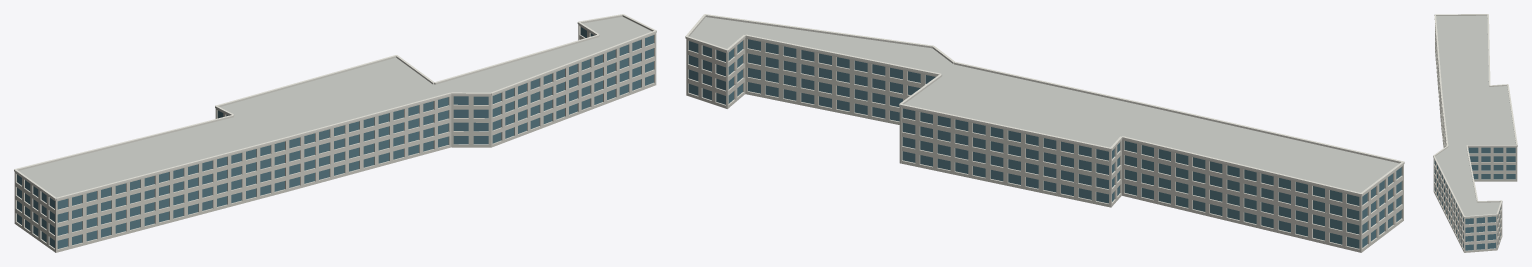
The model's file is sb_1556514399.far.glb.
3 views of the same model, side by side, from view 1: azimuth 30°, elevation 25°; view 2: azimuth 150°, elevation 25°; view 3: azimuth 270°, elevation 25° (orthographic). The views are drawn at different scales.
Visible parts, largest first — view 1: wall, roof, glass, trim; view 2: wall, roof, glass, trim; view 3: roof, wall, glass, trim.
Boxes of the visible parts, x1,y1,x2,y2 form: wall: (14,24,656,252); roof: (19,16,651,197); glass: (17,27,653,248); trim: (14,14,656,200); wall: (686,37,1403,252); roof: (689,17,1399,192); glass: (688,39,1401,248); trim: (685,14,1404,195); roof: (1435,15,1515,216); wall: (1433,24,1517,252); glass: (1434,147,1515,250); trim: (1433,14,1517,217).
Bounding box in the file's own units: 157 × 13.04 × 27.62.
